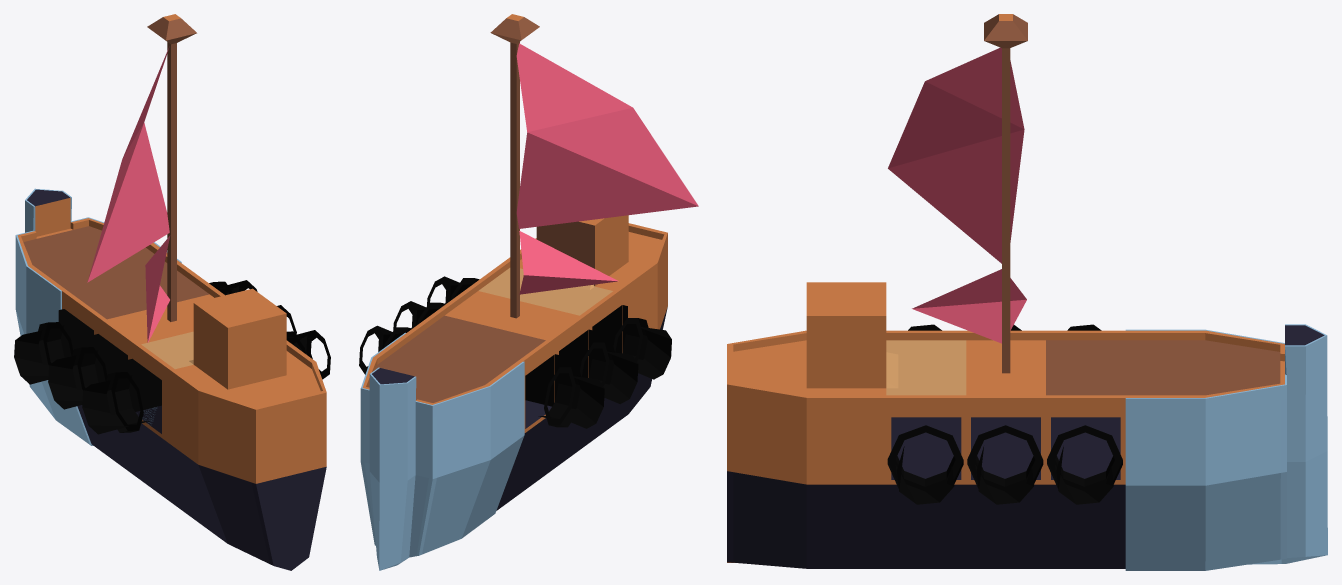
The model's file is broadsideShip.glb.
3 views of the same model, side by side, from view 1: azimuth 30°, elevation 25°; view 2: azimuth 150°, elevation 25°; view 3: azimuth 270°, elevation 25° (orthographic). The views are drawn at different scales.
Parts seen in each view (by area): view 1: Ship, Corkscrew Cannons, Fancy Sail, Light Armor; view 2: Ship, Light Armor, Fancy Sail, Corkscrew Cannons; view 3: Ship, Light Armor, Fancy Sail, Corkscrew Cannons.
Part boxes in pixels (box(x1,y1,x2,y2)): Ship: box(17, 14, 326, 570); Corkscrew Cannons: box(14, 280, 330, 434); Fancy Sail: box(87, 46, 170, 342); Light Armor: box(15, 188, 181, 445); Ship: box(362, 14, 667, 510); Light Armor: box(360, 332, 524, 570); Fancy Sail: box(516, 43, 698, 294); Corkscrew Cannons: box(359, 276, 671, 428); Ship: box(727, 14, 1324, 568); Light Armor: box(1125, 324, 1327, 570); Fancy Sail: box(888, 47, 1026, 343); Corkscrew Cannons: box(887, 324, 1122, 504).
Size of the model in its own units: 8.41 by 15.15 by 15.08.
4 materials, 3 textured.
